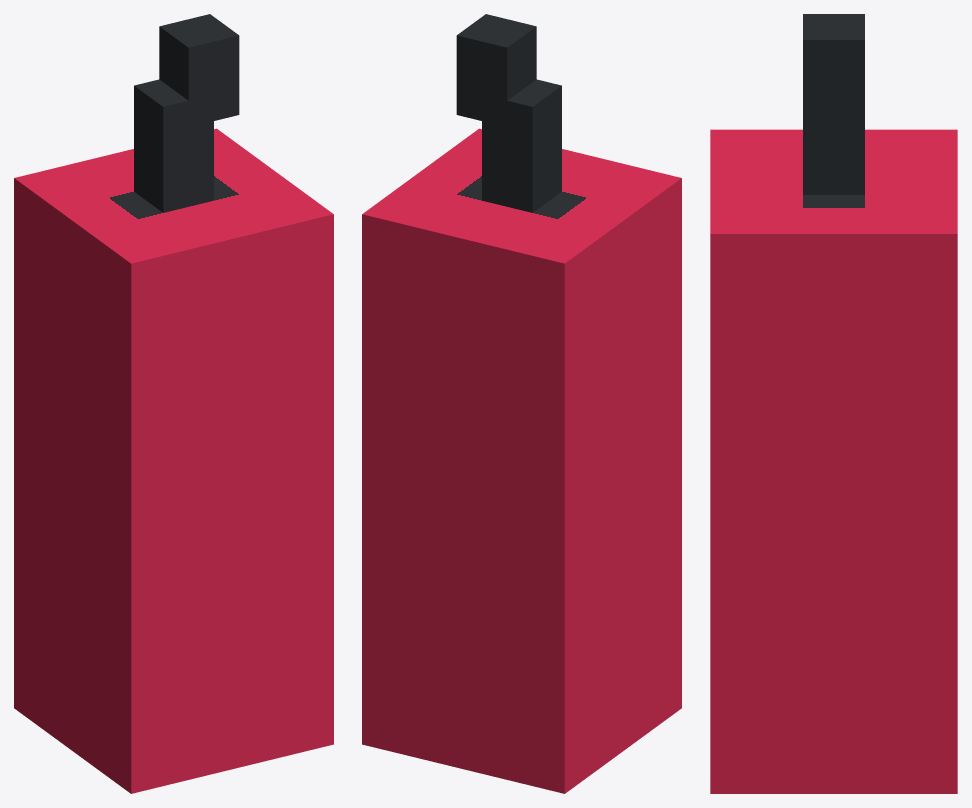
3 renders of one model, left to right at view 1: azimuth 30°, elevation 25°; view 2: azimuth 150°, elevation 25°; view 3: azimuth 270°, elevation 25°, orthographic. The views are drawn at different scales.
Visible parts, largest first — view 1: generated(Clone); view 2: generated(Clone); view 3: generated(Clone).
Part boxes in pixels (x1,y1,x2,y2): generated(Clone): (14, 14, 333, 793); generated(Clone): (362, 14, 681, 793); generated(Clone): (710, 14, 957, 793).
Bounding box in the file's own units: 4 × 13 × 4.
Materials: 1 (1 with a texture image).
